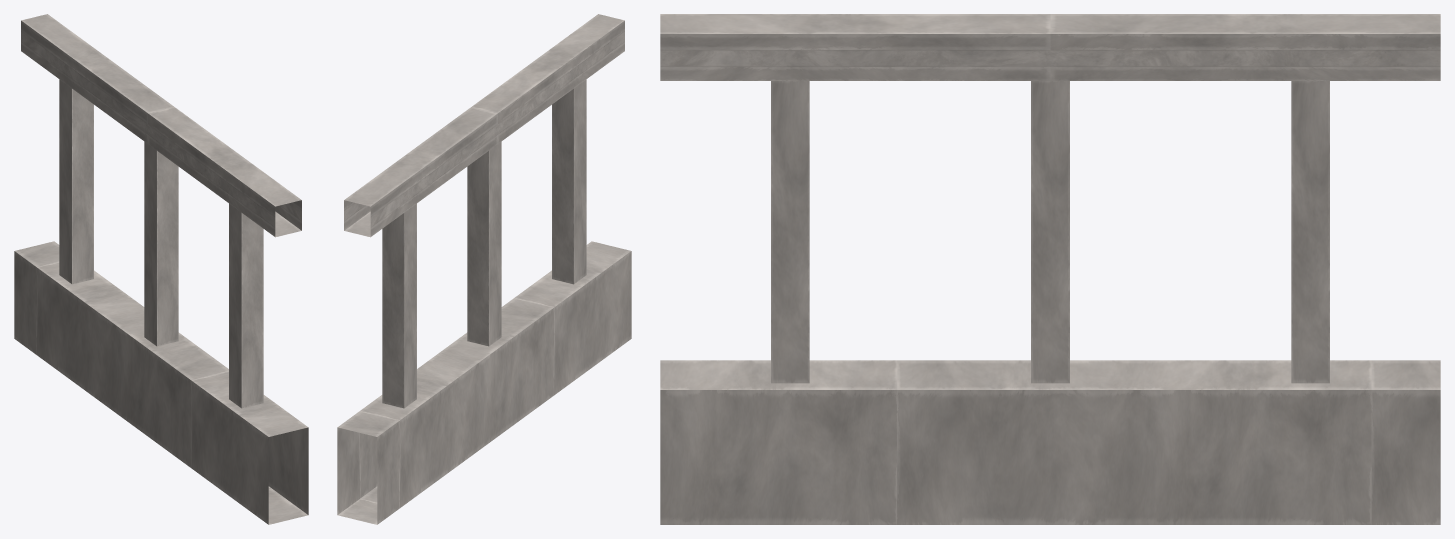
The model's file is Stair_6H_Rail_B.fbx.
3 renders of one model, left to right at view 1: azimuth 30°, elevation 25°; view 2: azimuth 150°, elevation 25°; view 3: azimuth 270°, elevation 25°, orthographic. The views are drawn at different scales.
Visible parts, largest first — view 1: Stair_6H_Rail_B; view 2: Stair_6H_Rail_B; view 3: Stair_6H_Rail_B.
Part boxes in pixels (x1,y1,x2,y2): Stair_6H_Rail_B: [14, 14, 308, 524]; Stair_6H_Rail_B: [337, 14, 631, 524]; Stair_6H_Rail_B: [660, 14, 1440, 524].
Bounding box in the file's own units: 0.2712 × 3 × 2.06.
